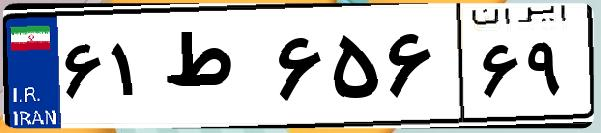1: (110, 28, 158, 98)
5: (330, 28, 385, 110)
6: (270, 28, 330, 110), (385, 28, 445, 110), (57, 26, 110, 100), (475, 38, 525, 113)
9: (525, 38, 570, 115)
ط: (158, 20, 270, 120)
